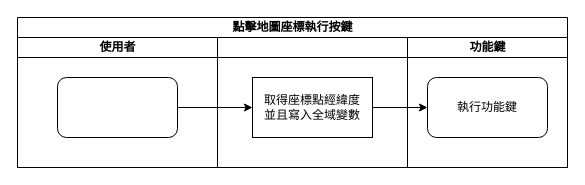
Some shapes in this 585 by 185 pixel diagram are drawn without their labels. Here are the shapes that lost their labels. From the top down, the box of each, then its label:
(56, 76, 178, 138): 點擊地圖上的 任意座標點
(216, 36, 408, 168): 嵌入物件
